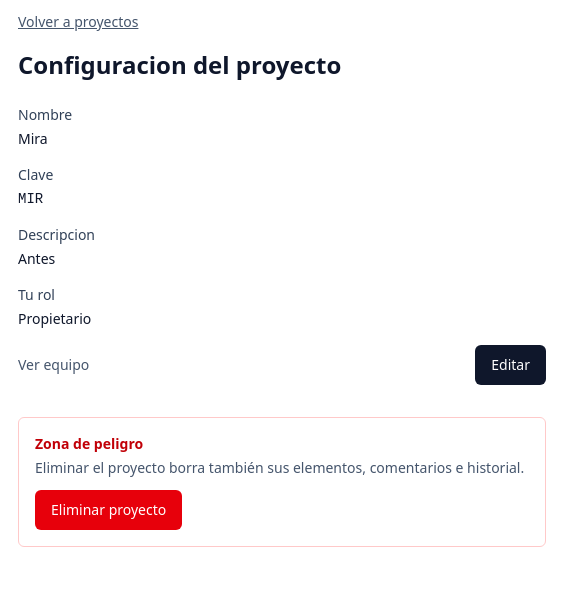
Test: ProjectSettingsPage › vaciar la descripcion envia null
The width and height of the screenshot is (565, 616).
Click the button "Editar" at (511, 365), box [475,345,546,385]
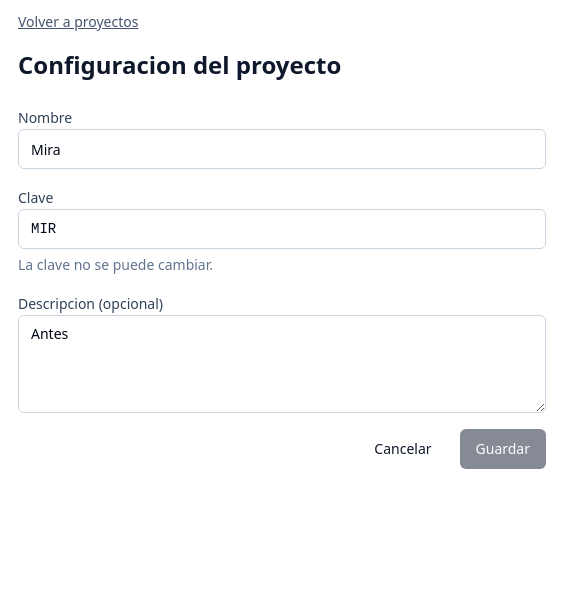
Clear the text box labelled "Descripcion (opcional)" at (282, 364), box [18,315,546,413]
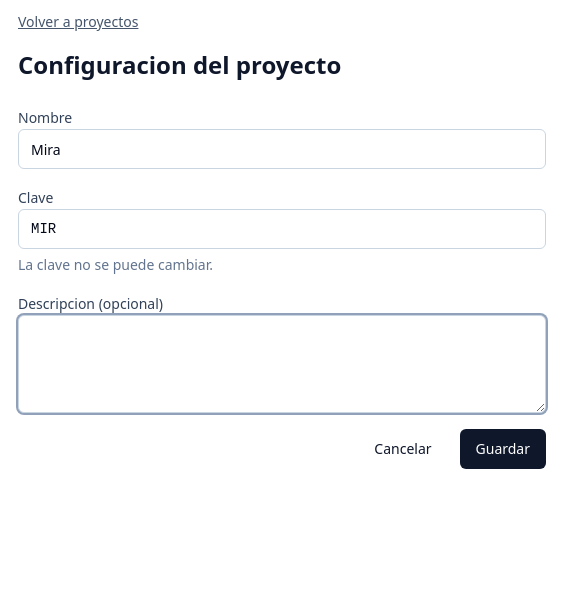
Click the button "Guardar" at (503, 449), box [460,429,546,469]
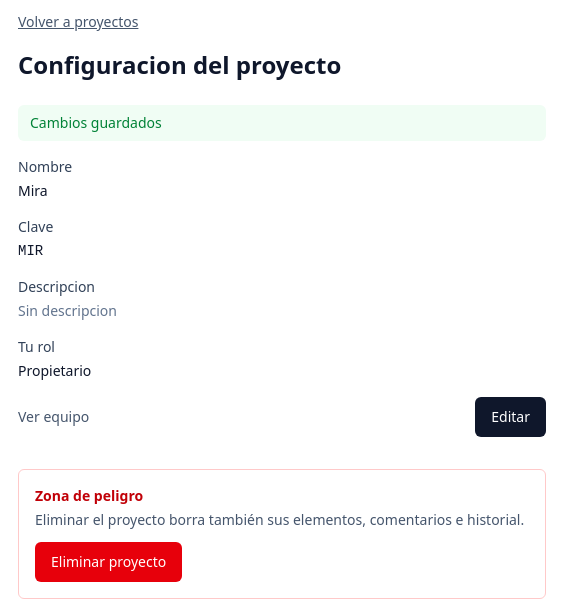
Check: the text "Cambios guardados" is shown, box [18,105,546,141]
Check: the text "Sin descripcion" is shown, box [18,301,117,320]
